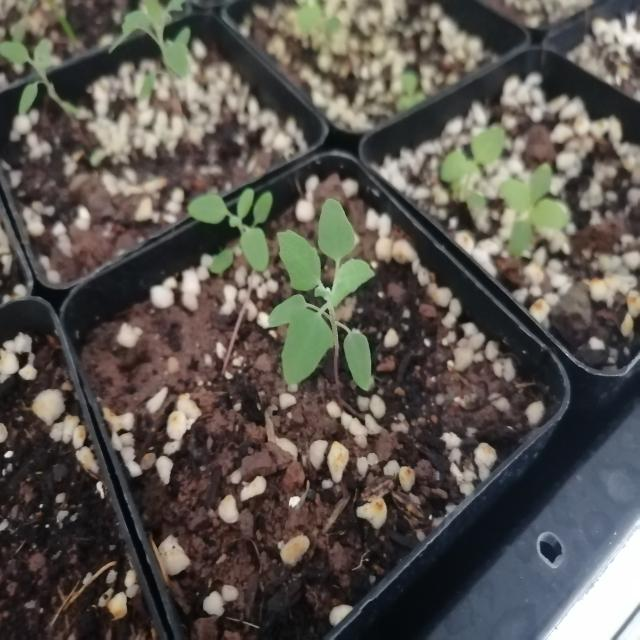goosefoots: (268, 193, 399, 394), (195, 160, 277, 291)
